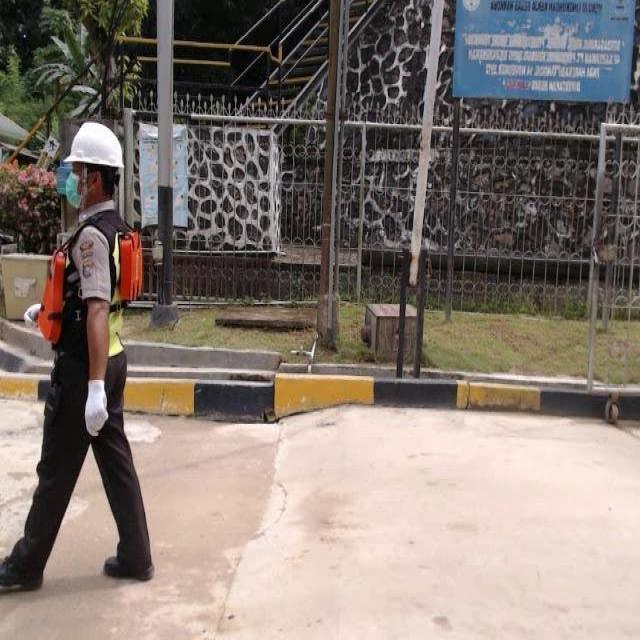gloves: (82, 370, 116, 446)
helmet: (56, 120, 126, 176)
